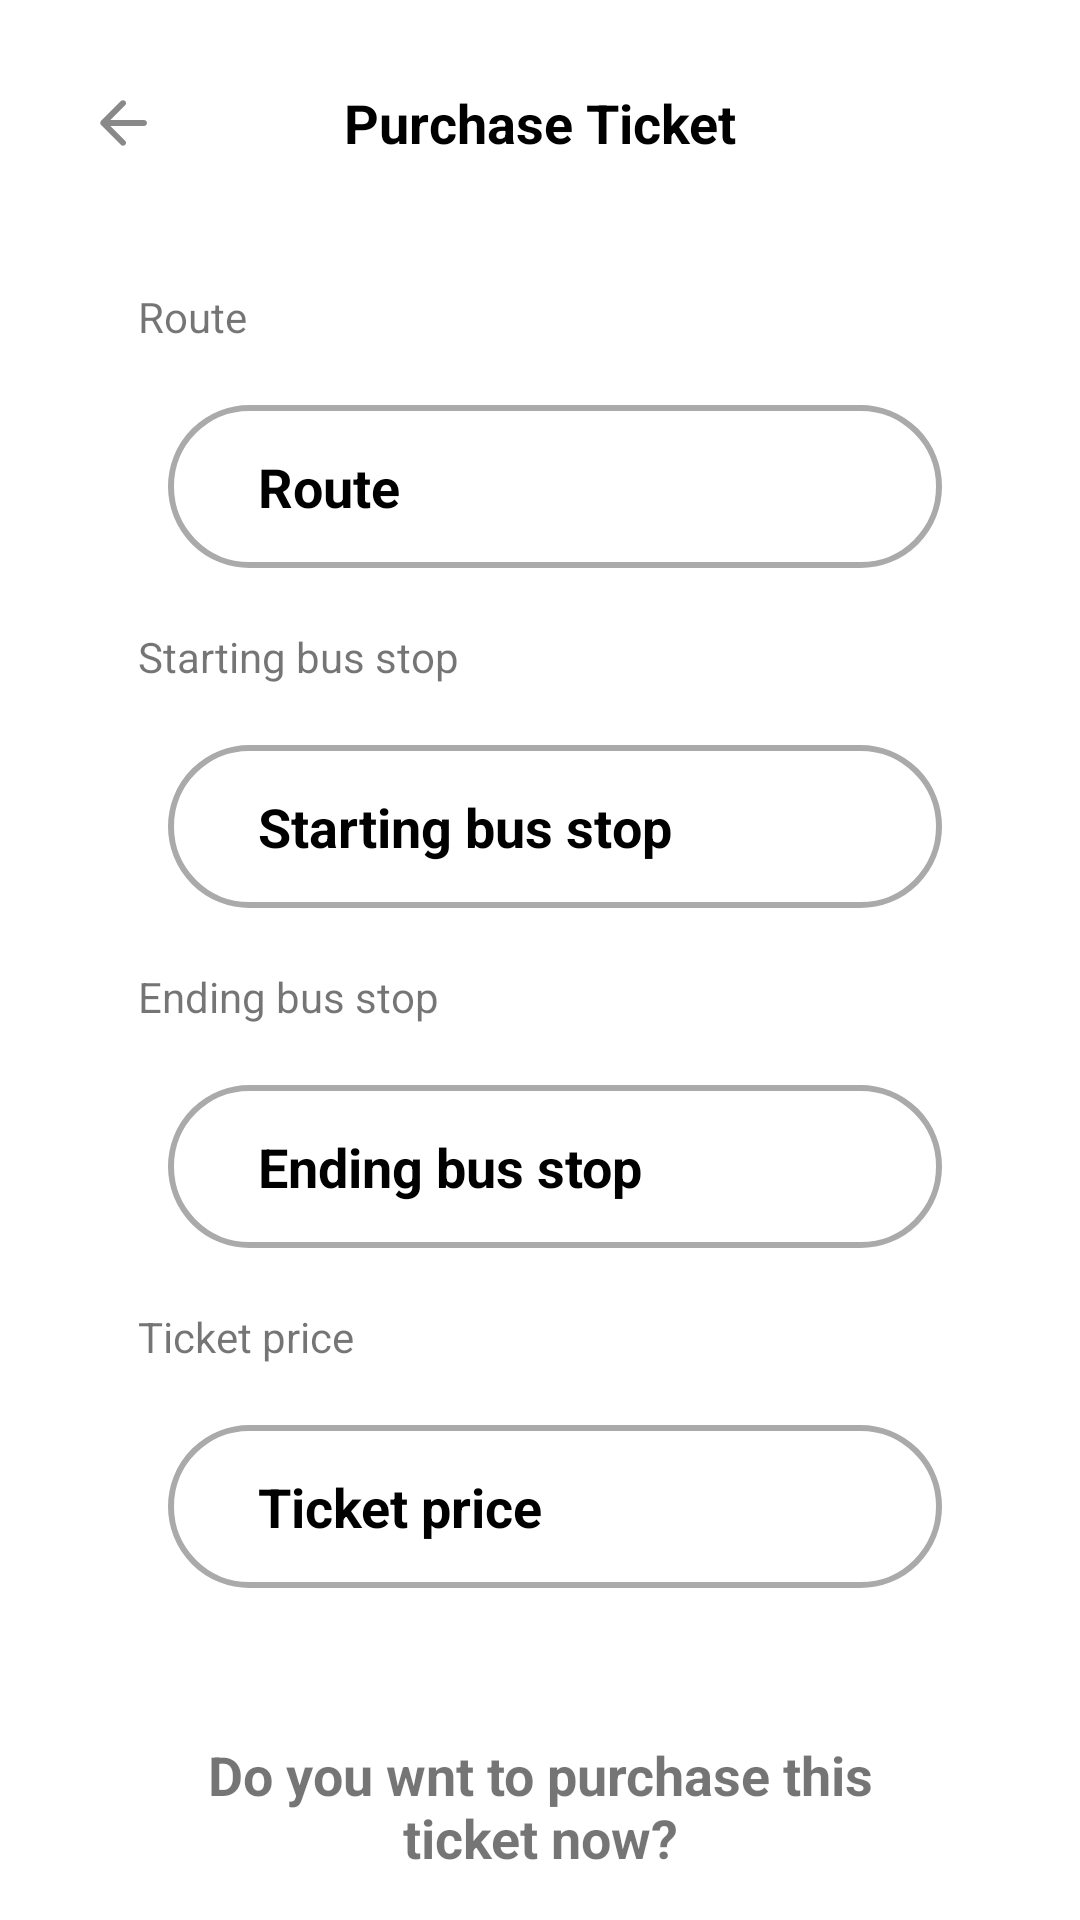

Screen size 1080 x 1920. Icon name, then its center in pixels as [x,y]:
back: [123,123]
